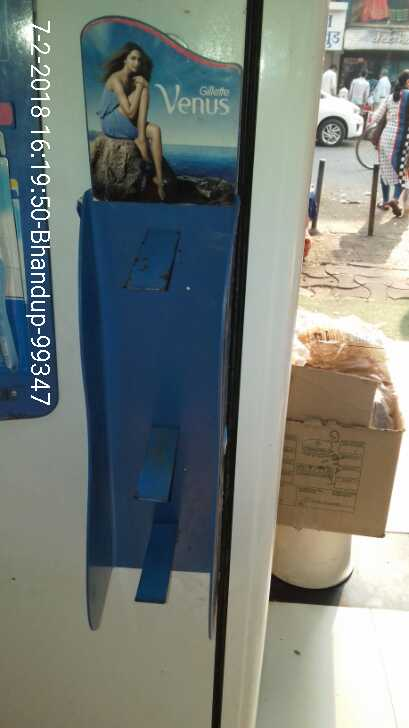reject: (110, 231, 230, 424)
